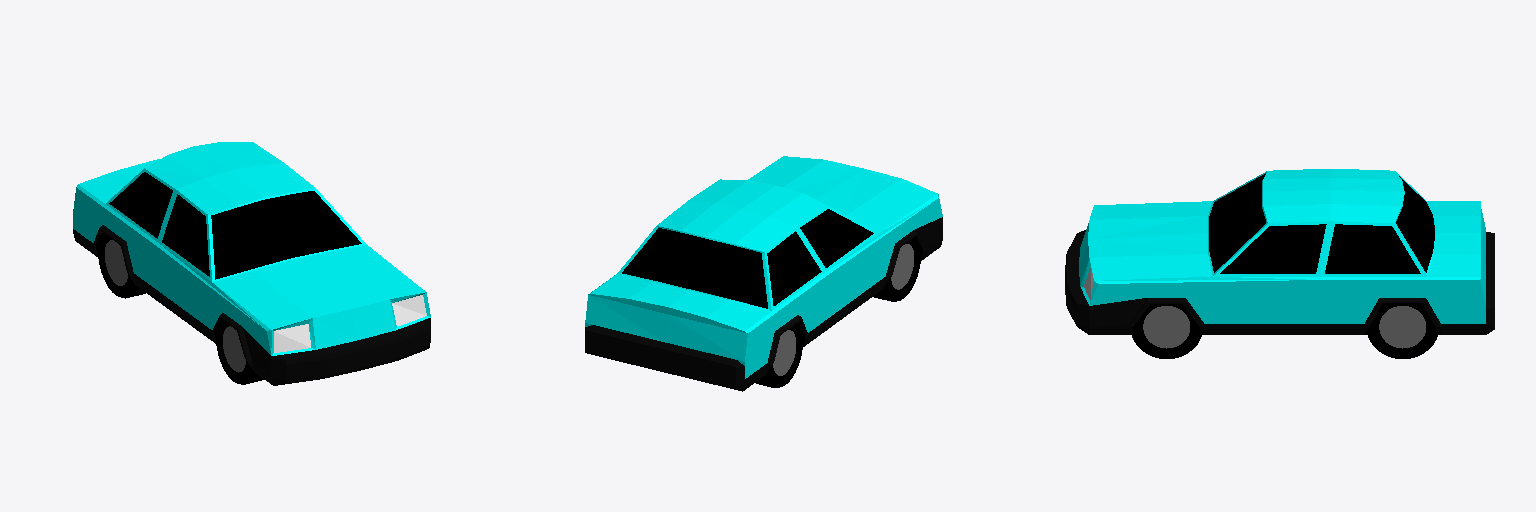
The model's file is Car2.obj.
3 views of the same model, side by side, from view 1: azimuth 30°, elevation 25°; view 2: azimuth 150°, elevation 25°; view 3: azimuth 270°, elevation 25° (orthographic).
Parts seen in each view (by area): view 1: Car_Cube; view 2: Car_Cube; view 3: Car_Cube.
Boxes of the visible parts, x1,y1,x2,y2 form: Car_Cube: [73, 142, 430, 385]; Car_Cube: [585, 156, 942, 391]; Car_Cube: [1065, 169, 1494, 358].
Bounding box in the file's own units: 2.1 × 1.59 × 4.67.